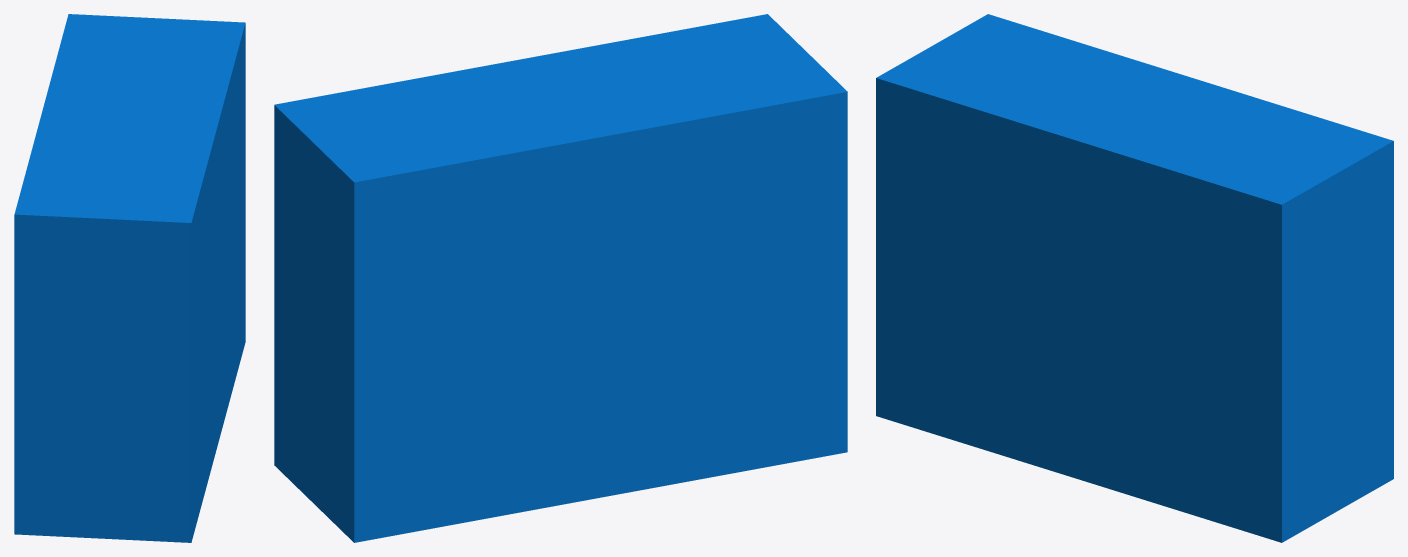
The model's file is Palma_T2_URB.fbx.
3 views of the same model, side by side, from view 1: azimuth 30°, elevation 25°; view 2: azimuth 150°, elevation 25°; view 3: azimuth 270°, elevation 25° (orthographic). The views are drawn at different scales.
Parts seen in each view (by area): view 1: Cube__48_; view 2: Cube__48_; view 3: Cube__48_.
Part boxes in pixels (x1,y1,x2,y2): Cube__48_: (14, 14, 245, 542); Cube__48_: (274, 14, 847, 542); Cube__48_: (876, 14, 1393, 542).
Size of the model in its own units: 3404 by 2811 by 3902.
